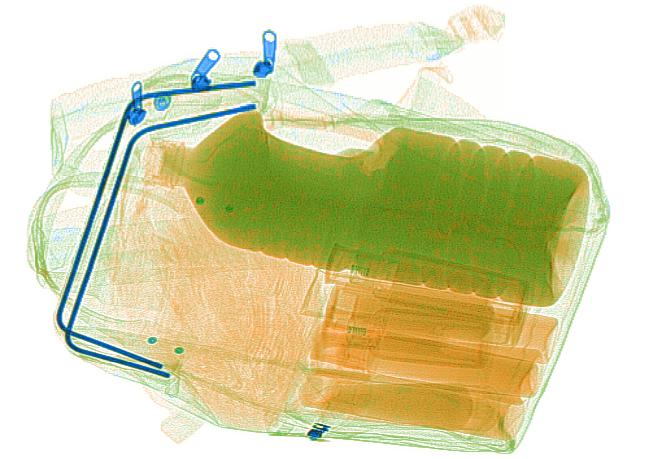plasticBottleWithaNozzle: (318, 301, 496, 368)
